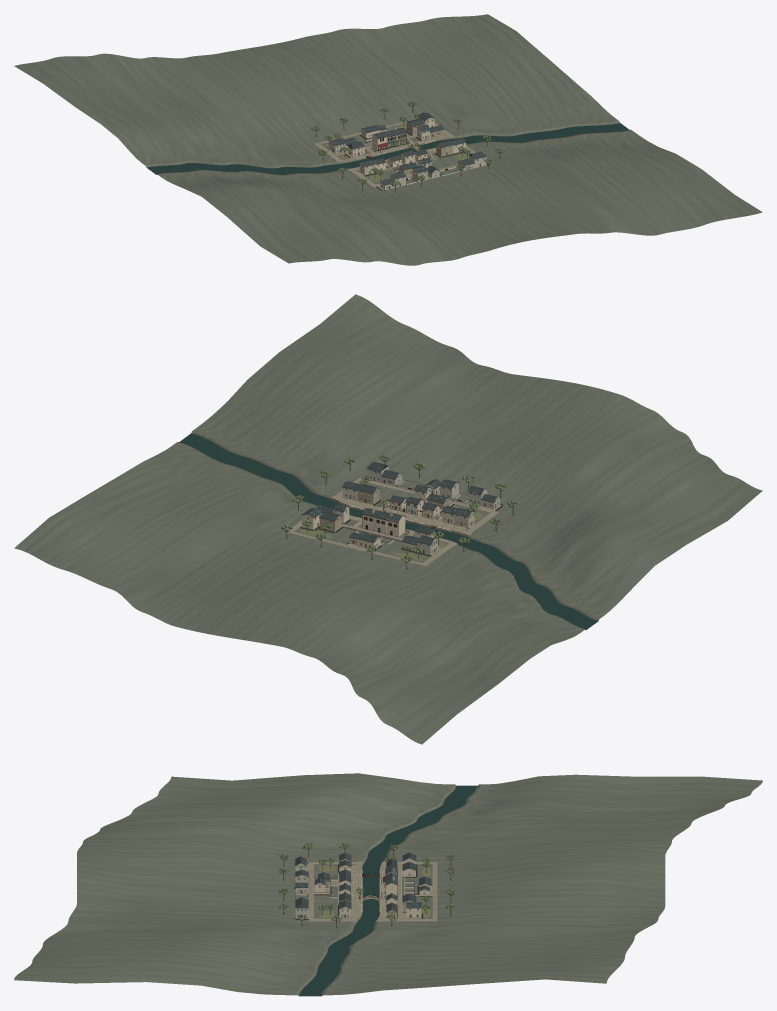
Rendered from space-10.glb.
The picture shows the model from 3 angles, top to bottom: view 1: azimuth 30°, elevation 25°; view 2: azimuth 150°, elevation 25°; view 3: azimuth 270°, elevation 25°; orthographic projection. The views are drawn at different scales.
Visible parts, largest first — view 1: ROAM01_Surface / EXT_B02_DampMineralGround, ROAM01_Water, ROAM01_Surface / SPACE10_Roof, ROAM01_Surface / paving, ROAM01_Surface / SPACE10_WarmGreyPlaster, ROAM01_Surface / SPACE06_Leaf, ROAM01_Surface / roof, ROAM01_Surface / stone; view 2: ROAM01_Surface / EXT_B02_DampMineralGround, ROAM01_Water, ROAM01_Surface / paving, ROAM01_Surface / SPACE10_Roof, ROAM01_Surface / SPACE10_WarmGreyPlaster, ROAM01_Surface / SPACE06_Leaf, ROAM01_Surface / stone; view 3: ROAM01_Surface / EXT_B02_DampMineralGround, ROAM01_Water, ROAM01_Surface / paving, ROAM01_Surface / SPACE10_Roof, ROAM01_Surface / SPACE06_Leaf, ROAM01_Surface / roof, ROAM01_Surface / SPACE10_WarmGreyPlaster.
Part boxes in pixels (bbox=[...]): ROAM01_Surface / EXT_B02_DampMineralGround: bbox=[14, 14, 762, 265]; ROAM01_Water: bbox=[147, 123, 629, 174]; ROAM01_Surface / SPACE10_Roof: bbox=[329, 112, 486, 185]; ROAM01_Surface / paving: bbox=[313, 118, 487, 190]; ROAM01_Surface / SPACE10_WarmGreyPlaster: bbox=[329, 140, 486, 189]; ROAM01_Surface / SPACE06_Leaf: bbox=[311, 100, 504, 185]; ROAM01_Surface / roof: bbox=[364, 127, 460, 183]; ROAM01_Surface / stone: bbox=[314, 134, 455, 187]; ROAM01_Surface / EXT_B02_DampMineralGround: bbox=[14, 294, 762, 744]; ROAM01_Water: bbox=[179, 433, 598, 629]; ROAM01_Surface / paving: bbox=[285, 478, 501, 566]; ROAM01_Surface / SPACE10_Roof: bbox=[301, 462, 500, 545]; ROAM01_Surface / SPACE10_WarmGreyPlaster: bbox=[367, 466, 499, 554]; ROAM01_Surface / SPACE06_Leaf: bbox=[282, 455, 518, 561]; ROAM01_Surface / stone: bbox=[287, 483, 499, 566]; ROAM01_Surface / EXT_B02_DampMineralGround: bbox=[14, 773, 762, 995]; ROAM01_Water: bbox=[299, 785, 477, 996]; ROAM01_Surface / paving: bbox=[295, 861, 437, 921]; ROAM01_Surface / SPACE10_Roof: bbox=[295, 852, 431, 912]; ROAM01_Surface / SPACE06_Leaf: bbox=[279, 843, 455, 921]; ROAM01_Surface / roof: bbox=[295, 866, 419, 899]; ROAM01_Surface / SPACE10_WarmGreyPlaster: bbox=[295, 858, 415, 917].
Size of the model in its own units: 245 by 11.32 by 368.
